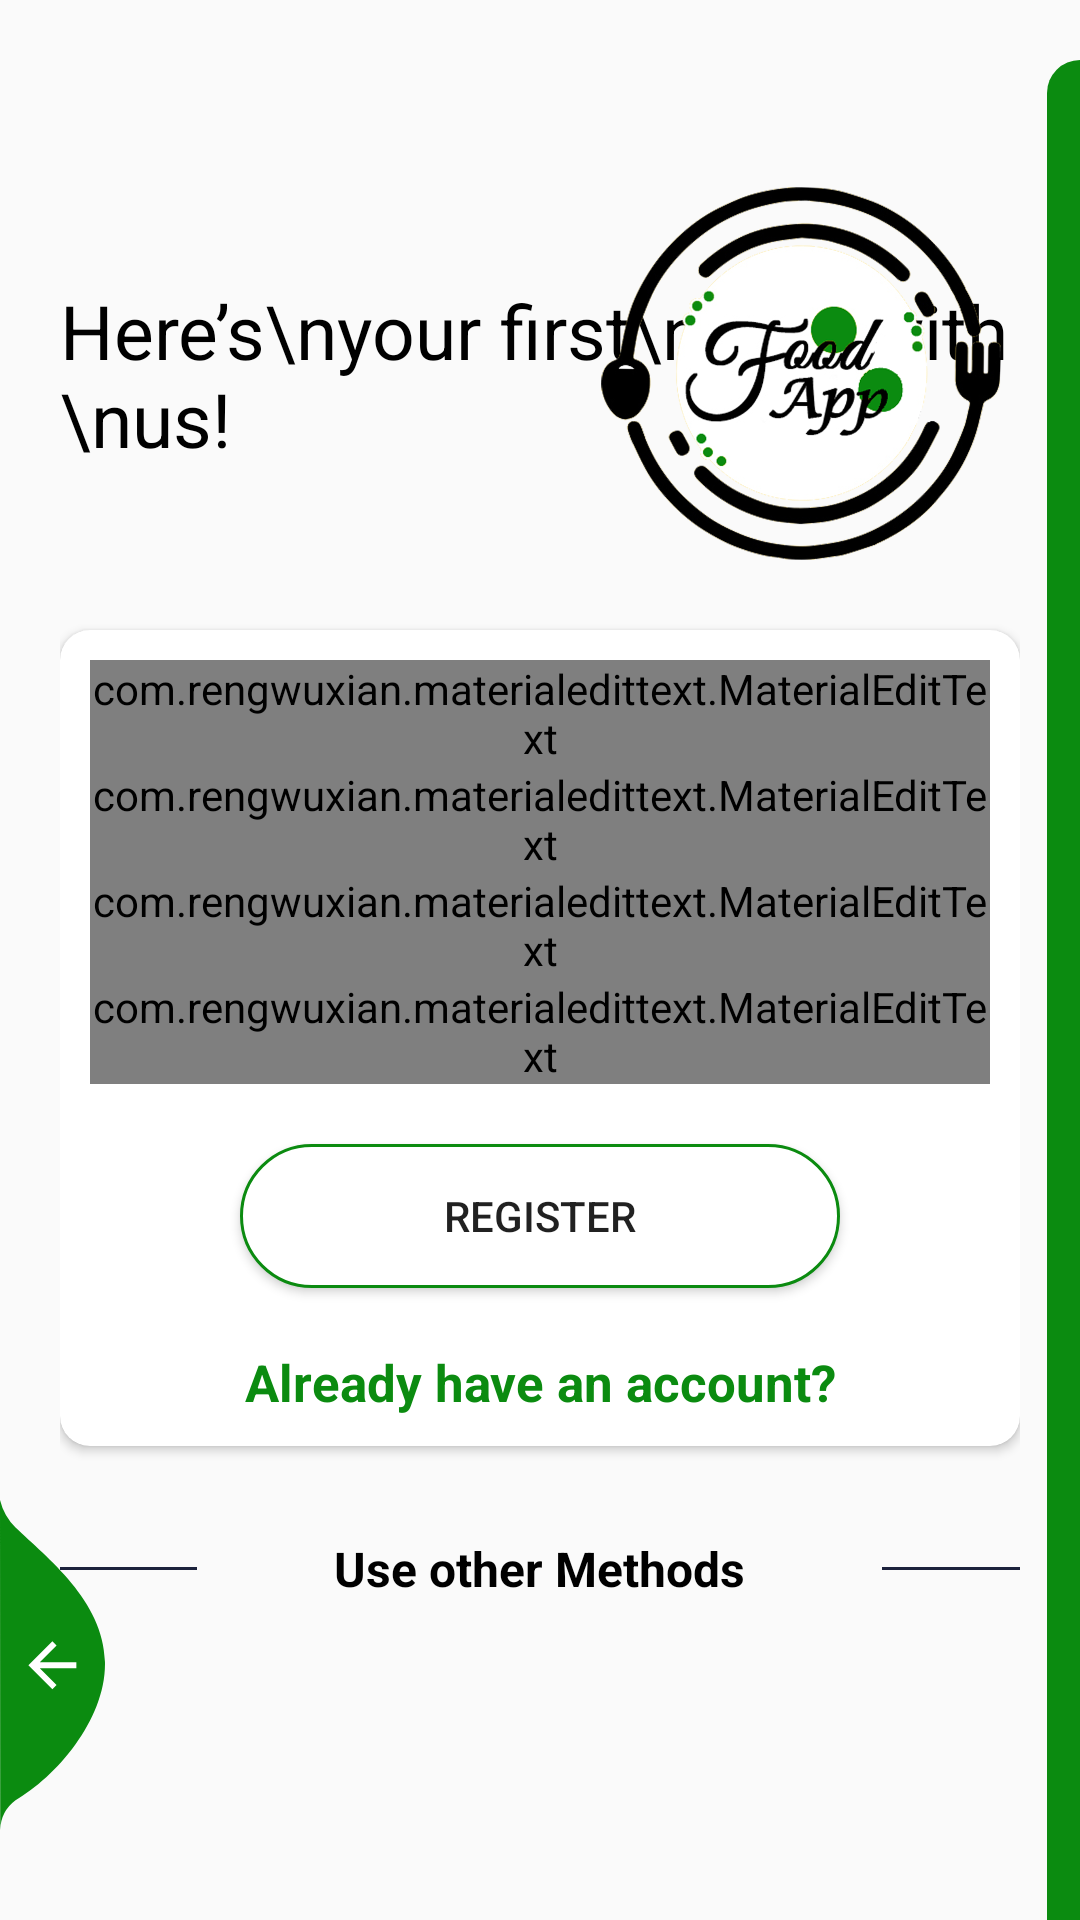

Screen size 1080 x 1920. Icon name, then its center in pixels as (x,y):
back: (52,1664)
